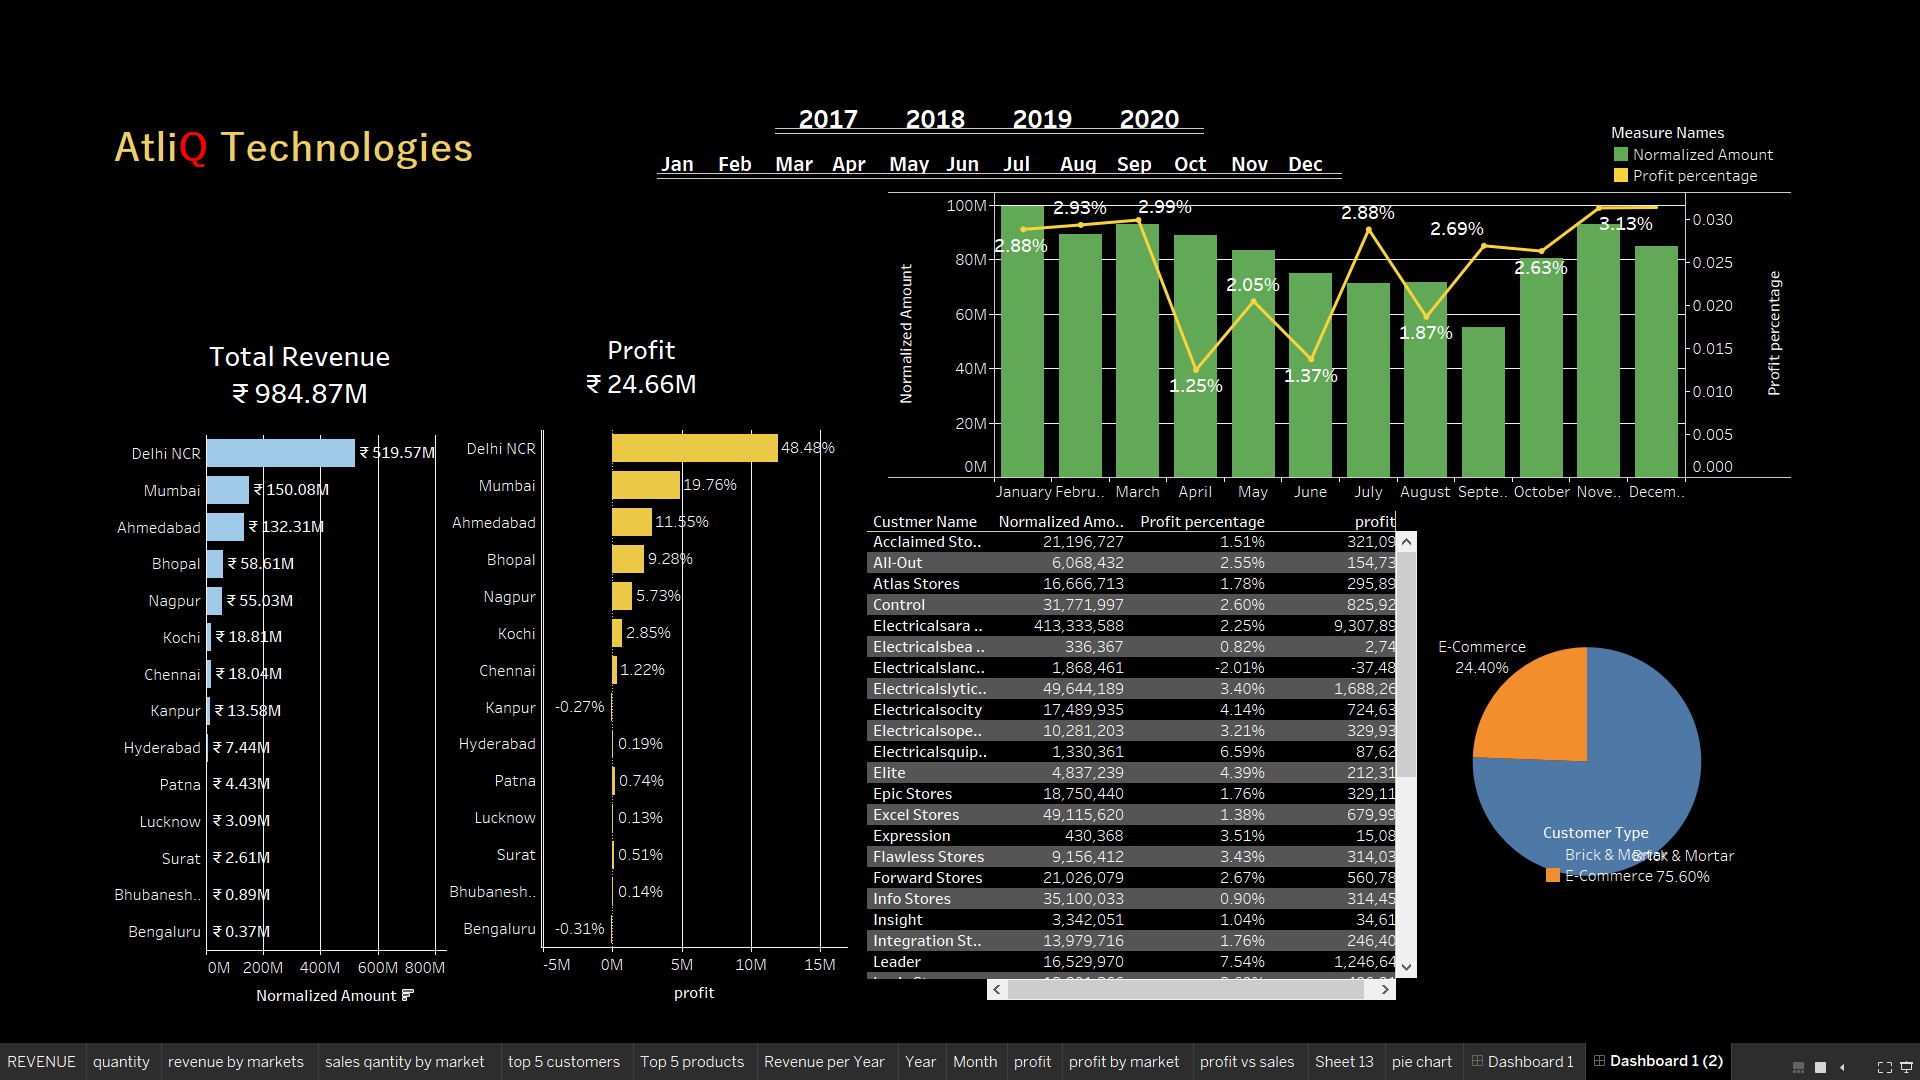

What the dashboard file says about the page in this screenshot:
{"tool":"tableau","page":{"name":"Dashboard 1 (2)","canvas":[1650,850],"ordinal":1},"visuals":[{"type":"worksheet","title":"Year","mark":"Automatic","cols":["cy_date"],"box":[648,1,446,62]},{"type":"worksheet","box":[25,25,375,125]},{"type":"worksheet","title":"profit vs sales","mark":"Bar","rows":["Calculation_1130122082506117121","Calculation_1130122082555166724"],"cols":["cy_date"],"param":"[federated.1wn63oq0kgk8pm16fl8hp06h48ja].[:Measure Names]","box":[1476,26,168,64]},{"type":"worksheet","title":"Month","mark":"Automatic","cols":["cy_date"],"box":[522,41,715,50]},{"type":"worksheet","title":"profit vs sales","mark":"Bar","rows":["Calculation_1130122082506117121","Calculation_1130122082555166724"],"cols":["cy_date"],"box":[753,96,881,311]},{"type":"worksheet","title":"profit","mark":"Automatic","box":[483,173,144,101]},{"type":"worksheet","title":"REVENUE","mark":"Automatic","box":[99,179,201,96]},{"type":"worksheet","title":"profit by market","mark":"Automatic","rows":["markets_name"],"cols":["profit_margin"],"box":[355,257,399,580]},{"type":"worksheet","title":"revenue by markets","mark":"Automatic","rows":["markets_name"],"cols":["Calculation_1130122082506117121"],"box":[9,265,333,578]},{"type":"worksheet","title":"Sheet 13","mark":"Automatic","rows":["custmer_name"],"box":[759,419,550,423]},{"type":"worksheet","title":"pie chart","mark":"Pie","box":[1325,445,298,283]},{"type":"worksheet","title":"pie chart","mark":"Pie","param":"[federated.1wn63oq0kgk8pm16fl8hp06h48ja].[none:customer_type:nk]","box":[1408,726,158,84]}]}

Visuals, with their boxes on the page's 1650x850 design canvas (x1, y1, x2, y2). These are canvas units, not pixel positions in the 1920x1080 screenshot, which may show the page scaled, cropped or inside an application window:
"Year" worksheet: left=648, top=1, right=1094, bottom=63
worksheet: left=25, top=25, right=400, bottom=150
"profit vs sales" worksheet (Bar marks): left=1476, top=26, right=1644, bottom=90
"Month" worksheet: left=522, top=41, right=1237, bottom=91
"profit vs sales" worksheet (Bar marks): left=753, top=96, right=1634, bottom=407
"profit" worksheet: left=483, top=173, right=627, bottom=274
"REVENUE" worksheet: left=99, top=179, right=300, bottom=275
"profit by market" worksheet: left=355, top=257, right=754, bottom=837
"revenue by markets" worksheet: left=9, top=265, right=342, bottom=843
"Sheet 13" worksheet: left=759, top=419, right=1309, bottom=842
"pie chart" worksheet (Pie marks): left=1325, top=445, right=1623, bottom=728
"pie chart" worksheet (Pie marks): left=1408, top=726, right=1566, bottom=810
